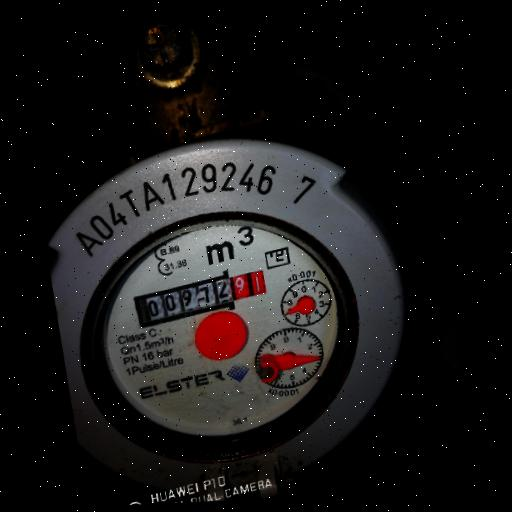0: (145, 293, 167, 320), (161, 290, 183, 317)
1: (246, 269, 268, 297)
2: (212, 277, 237, 305)
7: (196, 281, 219, 308)
9: (178, 286, 202, 313), (230, 273, 252, 300)
border_water_meter_number: (130, 259, 273, 333)
